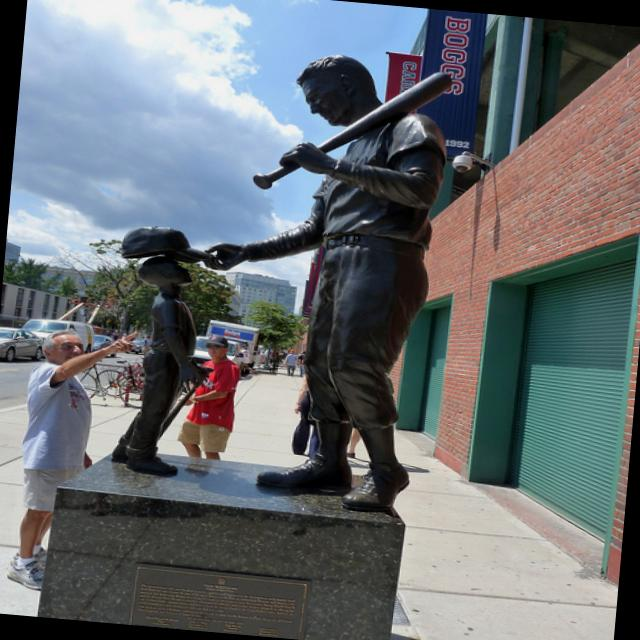Vehicle: (191, 320, 261, 378), (22, 316, 96, 352), (0, 325, 44, 363), (91, 333, 118, 358), (130, 338, 144, 354)
